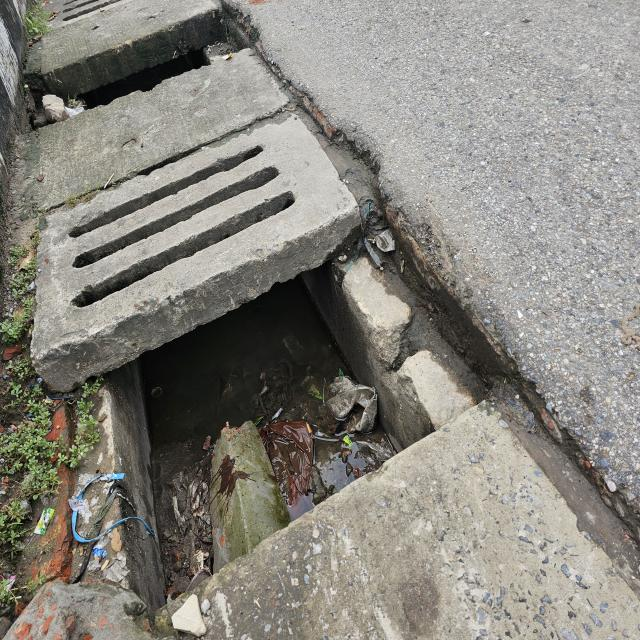drain_inlet: (84, 251, 437, 616)
